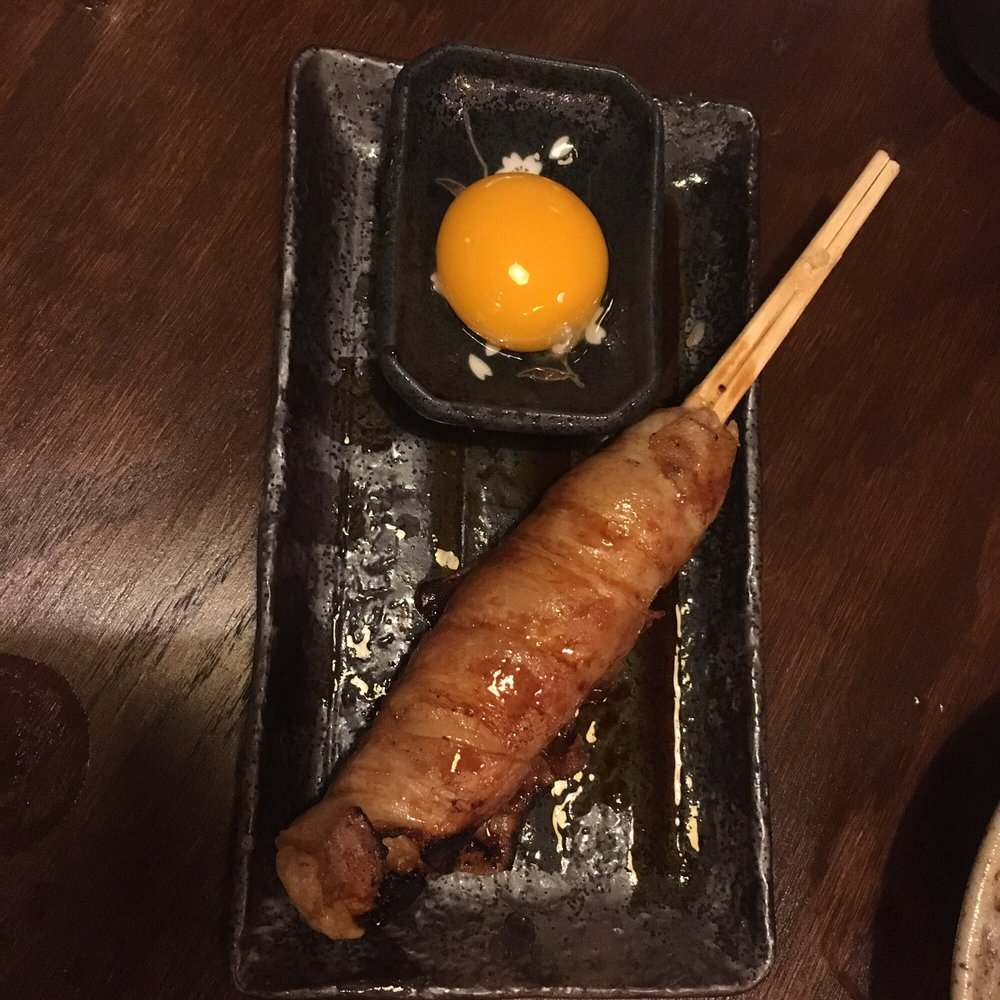bacon: (286, 418, 762, 905)
